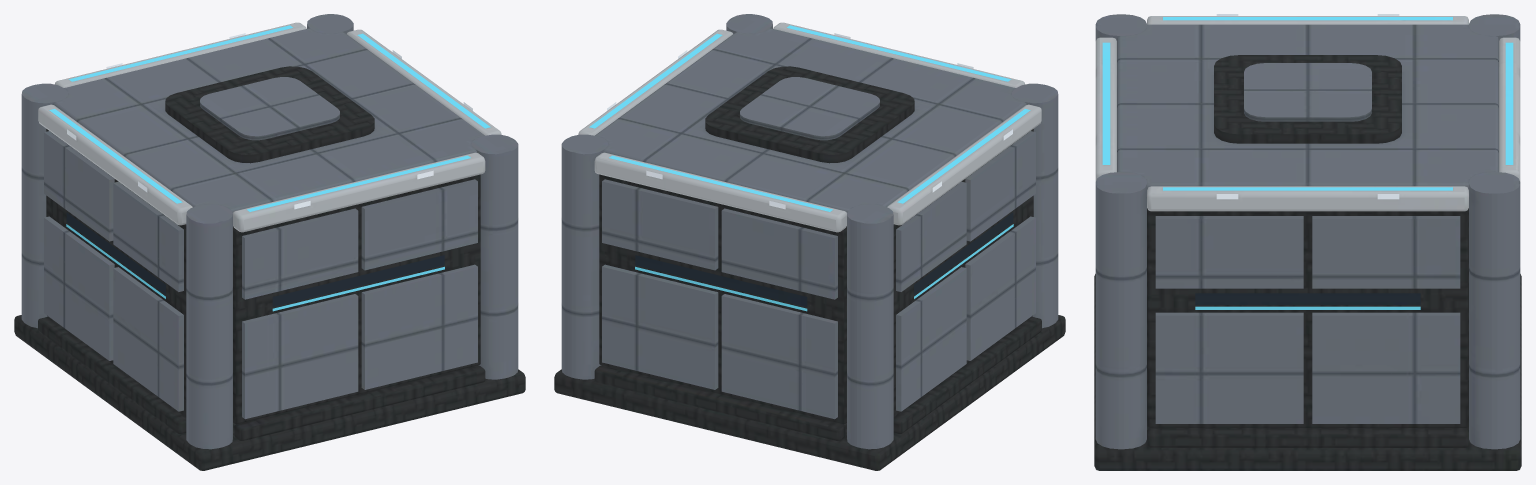
The model's file is hull_enterprise_hull_armored_closed.glb.
3 renders of one model, left to right at view 1: azimuth 30°, elevation 25°; view 2: azimuth 150°, elevation 25°; view 3: azimuth 270°, elevation 25°, orthographic. The views are drawn at different scales.
Visible parts, largest first — view 1: te_hull_enterprise_hull_armored_closed; view 2: te_hull_enterprise_hull_armored_closed; view 3: te_hull_enterprise_hull_armored_closed.
Boxes of the visible parts, bbox=[...] form: te_hull_enterprise_hull_armored_closed: bbox=[14, 14, 525, 470]; te_hull_enterprise_hull_armored_closed: bbox=[554, 14, 1065, 470]; te_hull_enterprise_hull_armored_closed: bbox=[1094, 14, 1521, 470].
Size of the model in its own units: 1 by 0.756 by 1.
Materials: 1 (1 with a texture image).
